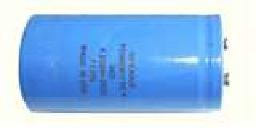Electrolytic-Capacitor: (17, 12, 232, 114)
